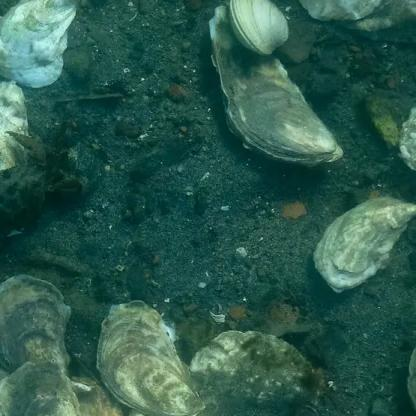Oyster-Closed: (210, 6, 344, 168), (97, 299, 205, 416), (190, 330, 323, 416), (313, 197, 416, 292), (0, 275, 73, 374), (0, 0, 77, 87), (0, 361, 81, 416), (0, 81, 29, 169), (345, 0, 416, 33), (300, 0, 383, 21), (360, 20, 416, 44), (407, 348, 416, 408)
